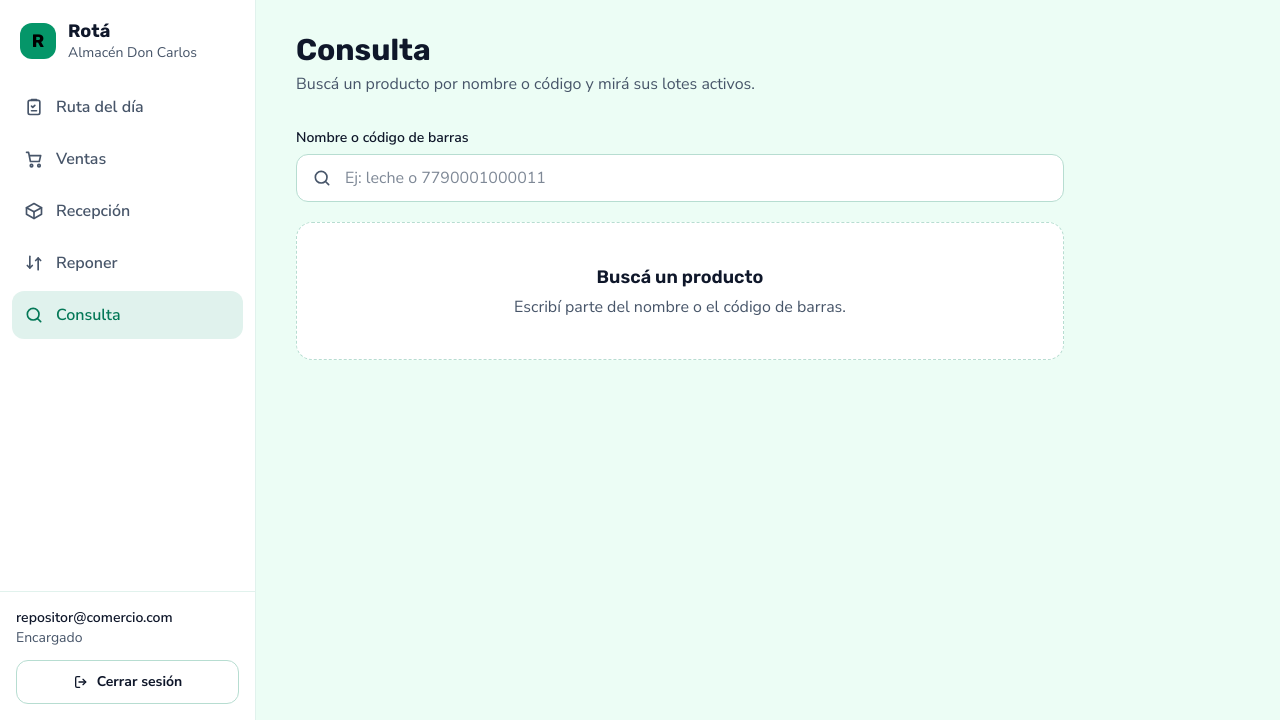
Test case: Consulta rápida › busca por nombre y muestra los lotes activos ordenados por vencimiento
The image size is (1280, 720).
Check: the text "Buscá un producto" is shown, box top-left (597, 266), bottom-right (763, 288)
Type "leche" into the search field labelled "Nombre o código de barras".
click(680, 178); type("leche")  # box top-left (296, 154), bottom-right (1064, 202)
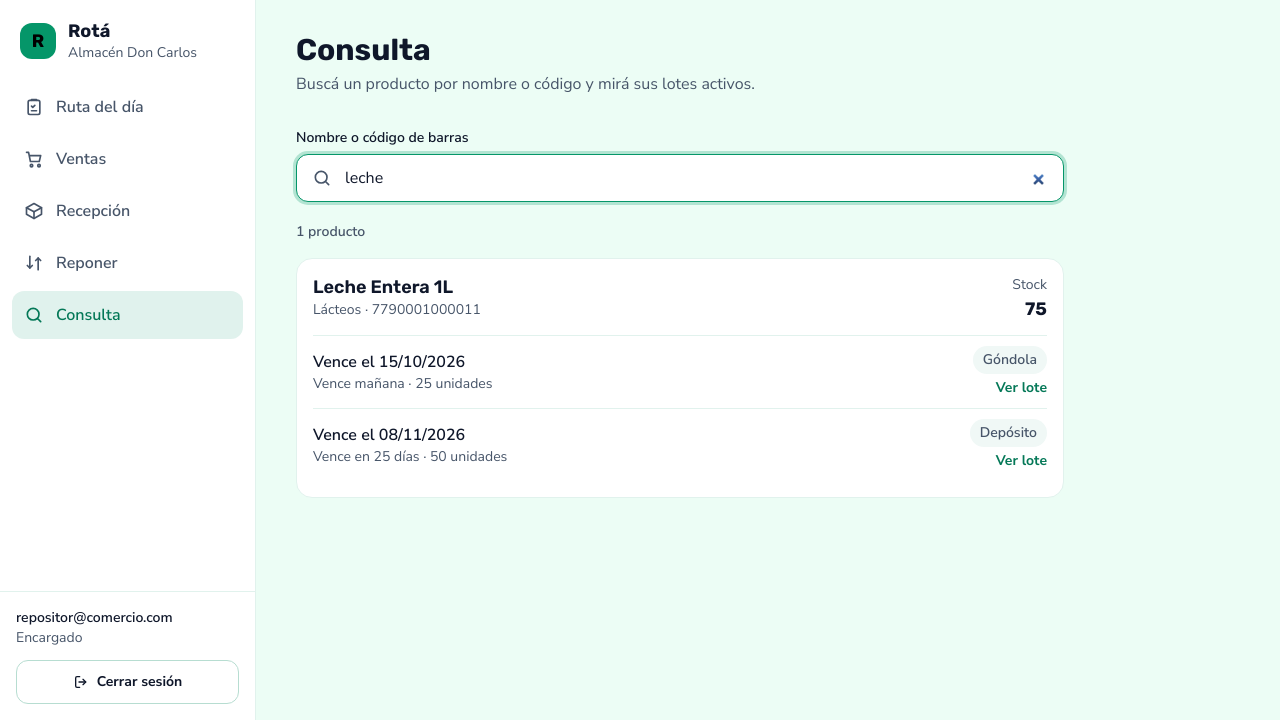
Check: the text "Leche Entera 1L" is shown, box top-left (313, 276), bottom-right (453, 298)
Check: the elements "Vence el " read "Vence el 15/10/2026", "Vence el 08/11/2026", in this order, box top-left (313, 351), bottom-right (465, 373); top-left (313, 424), bottom-right (465, 446)
Check: the text "Góndola" is shown, box top-left (973, 346), bottom-right (1047, 374)
